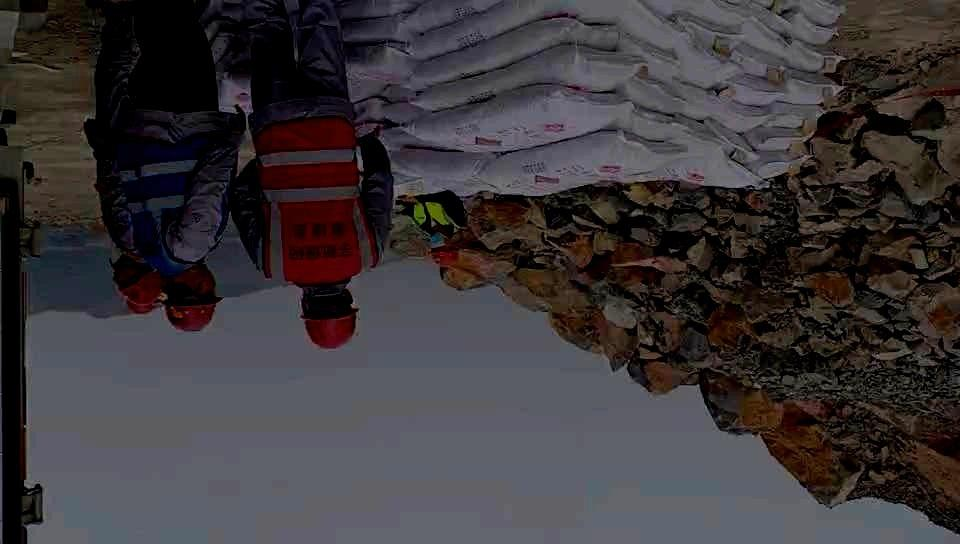helmet: (160, 264, 224, 333), (298, 286, 360, 351), (111, 252, 163, 306), (429, 233, 458, 266)
